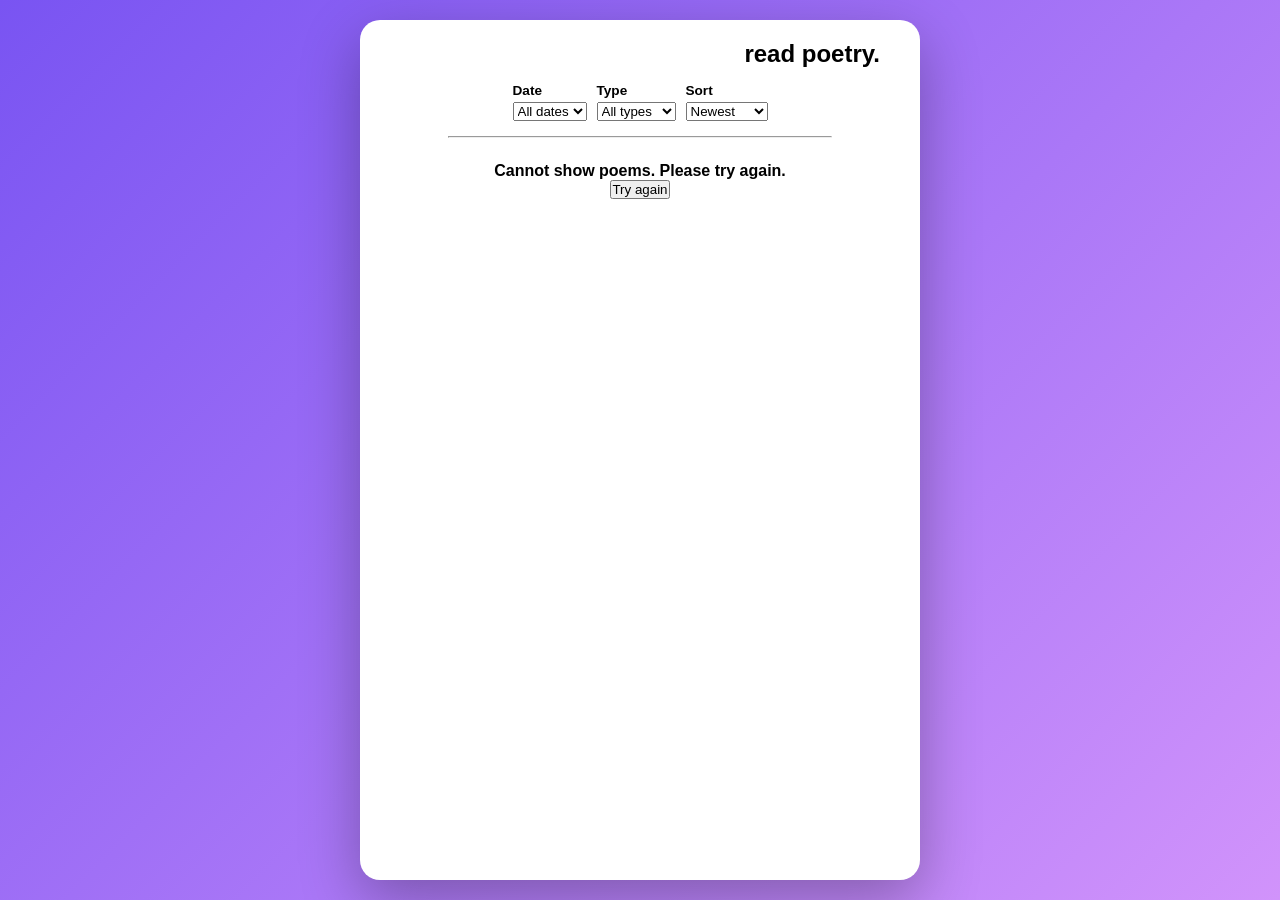
Scenario: Poetry feed › retries a failed feed request
Click the button "Try again": (640, 190) x1=610 y1=180 x2=670 y2=199
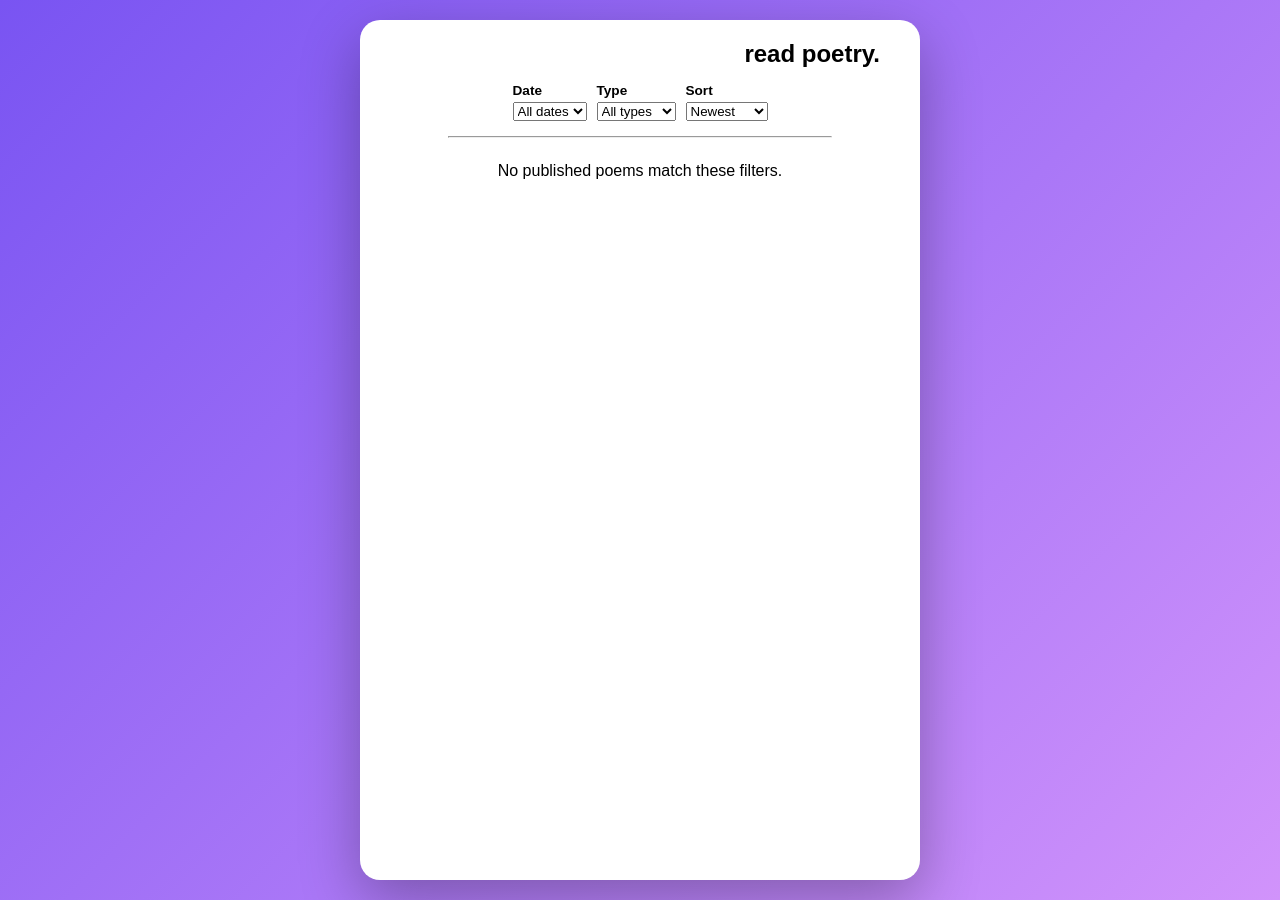
Expected: the text "No published poems match these filters." is shown, x1=498 y1=162 x2=782 y2=179
